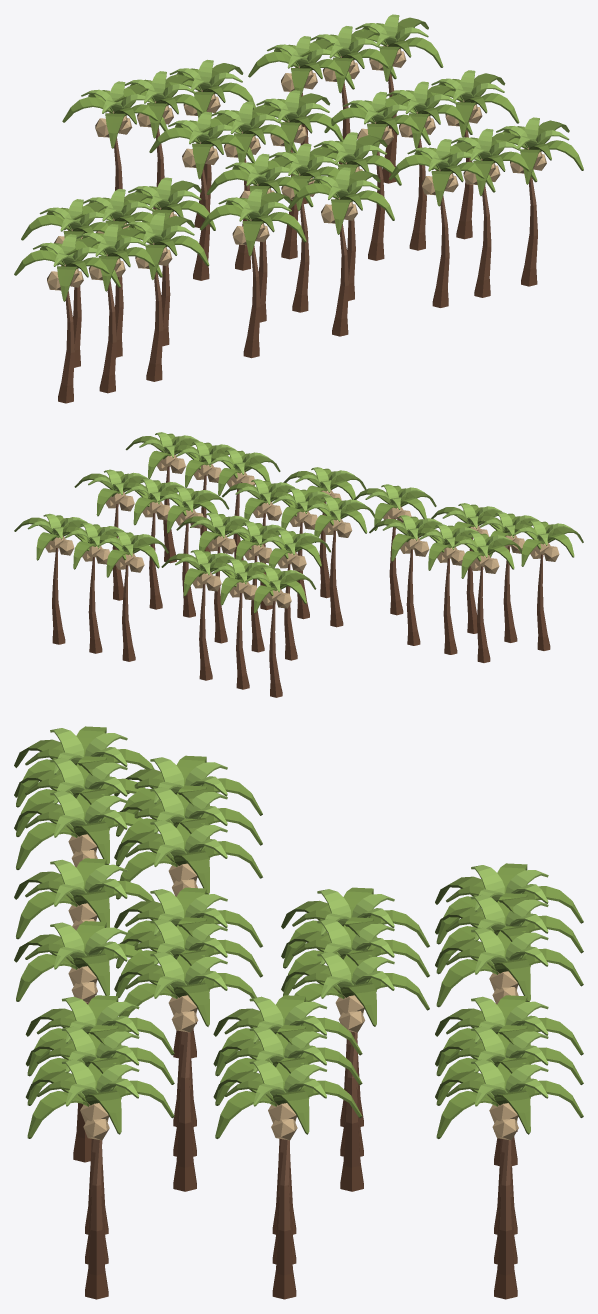
The picture shows the model from 3 angles, top to bottom: view 1: azimuth 30°, elevation 25°; view 2: azimuth 150°, elevation 25°; view 3: azimuth 270°, elevation 25°; orthographic projection. The views are drawn at different scales.
Parts seen in each view (by area): view 1: palm_1.087, palm_1.088, palm_1.091, palm_1.083, palm_1.089, palm_1.081, palm_1.017, palm_1.090, palm_1.082, palm_1.078, palm_1.079, palm_1.080 (+14 smaller); view 2: palm_1.018, palm_1.023, palm_1.091, palm_1.011, palm_1.006, palm_1.020, palm_1.021, palm_1.009, palm_1.087, palm_1.017, palm_1.019, palm_1.022 (+14 smaller); view 3: palm_1.081, palm_1.080, palm_1.021, palm_1.008, palm_1.015, palm_1.088, palm_1.020, palm_1.009, palm_1.087, palm_1.089, palm_1.079, palm_1.022 (+14 smaller).
Boxes of the visible parts, x1=… form: palm_1.087: x1=200, y1=189, x2=306, y2=358; palm_1.088: x1=288, y1=167, x2=394, y2=336; palm_1.091: x1=14, y1=234, x2=120, y2=403; palm_1.083: x1=389, y1=139, x2=495, y2=307; palm_1.089: x1=116, y1=212, x2=209, y2=381; palm_1.081: x1=491, y1=117, x2=583, y2=286; palm_1.017: x1=149, y1=111, x2=255, y2=280; palm_1.090: x1=57, y1=224, x2=162, y2=393; palm_1.082: x1=432, y1=128, x2=537, y2=297; palm_1.078: x1=324, y1=91, x2=430, y2=260; palm_1.079: x1=367, y1=81, x2=472, y2=250; palm_1.080: x1=426, y1=70, x2=519, y2=239; palm_1.018: x1=236, y1=566, x2=316, y2=697; palm_1.023: x1=89, y1=531, x2=168, y2=661; palm_1.091: x1=504, y1=520, x2=583, y2=650; palm_1.011: x1=444, y1=532, x2=521, y2=662; palm_1.006: x1=297, y1=496, x2=374, y2=627; palm_1.020: x1=161, y1=549, x2=236, y2=680; palm_1.021: x1=14, y1=513, x2=89, y2=644; palm_1.009: x1=369, y1=515, x2=444, y2=645; palm_1.087: x1=354, y1=484, x2=436, y2=615; palm_1.017: x1=251, y1=529, x2=330, y2=660; palm_1.019: x1=198, y1=558, x2=273, y2=689; palm_1.022: x1=51, y1=522, x2=126, y2=653; palm_1.081: x1=25, y1=1058, x2=174, y2=1299; palm_1.080: x1=213, y1=1058, x2=362, y2=1299; palm_1.021: x1=435, y1=1058, x2=583, y2=1299; palm_1.008: x1=114, y1=950, x2=257, y2=1191; palm_1.015: x1=281, y1=950, x2=429, y2=1191; palm_1.088: x1=14, y1=921, x2=153, y2=1162; palm_1.020: x1=435, y1=926, x2=583, y2=1165; palm_1.009: x1=114, y1=818, x2=262, y2=1058; palm_1.087: x1=14, y1=858, x2=154, y2=939; palm_1.089: x1=14, y1=789, x2=153, y2=869; palm_1.079: x1=213, y1=1025, x2=362, y2=1264; palm_1.022: x1=435, y1=1025, x2=583, y2=1264.
Size of the model in its own units: 23.35 by 6.08 by 14.13.
26 materials, 26 textured.
